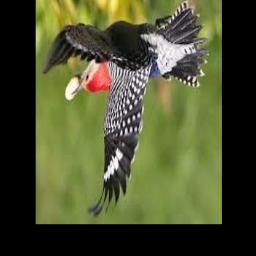Woodpecker: (42, 1, 209, 218)
